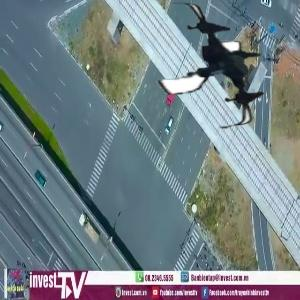drone: (151, 2, 280, 131)
